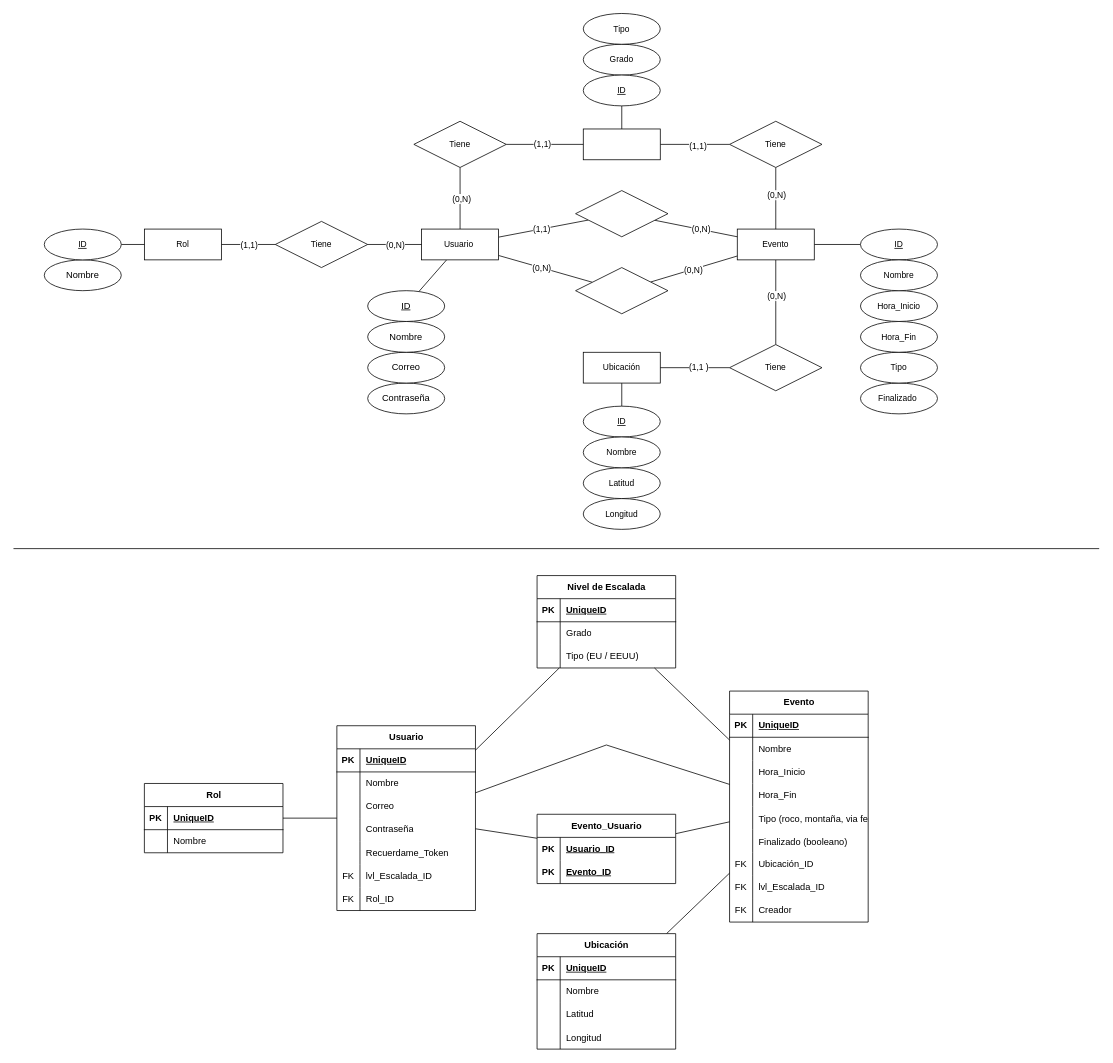
Image size: 1113x1063. Some labels were removed from this diagram. The centre of each missing label's shape, as x and y in pixels:
Apuntarse: the point at 621,290
Crear: the point at 621,213
lvl Escalada: the point at 621,144
